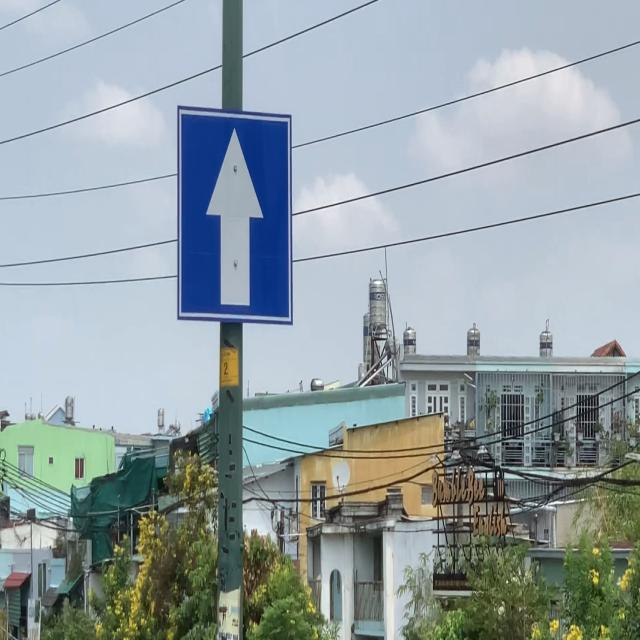Chi dan: (176, 102, 294, 327)
